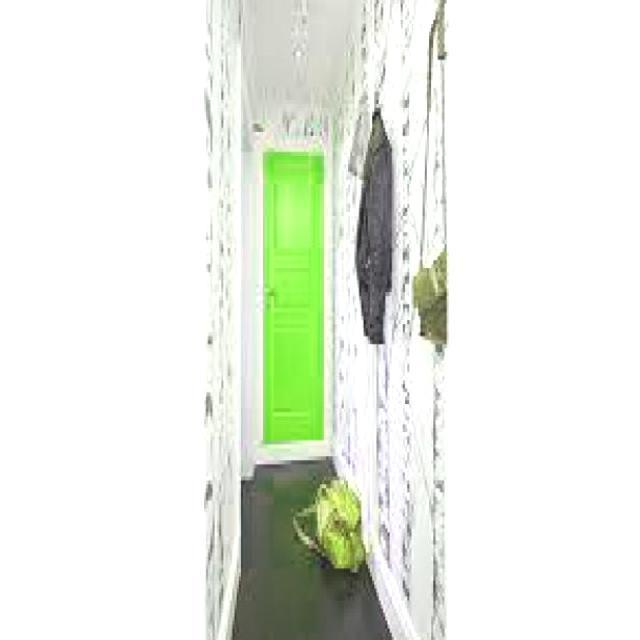Door: (250, 121, 342, 486)
